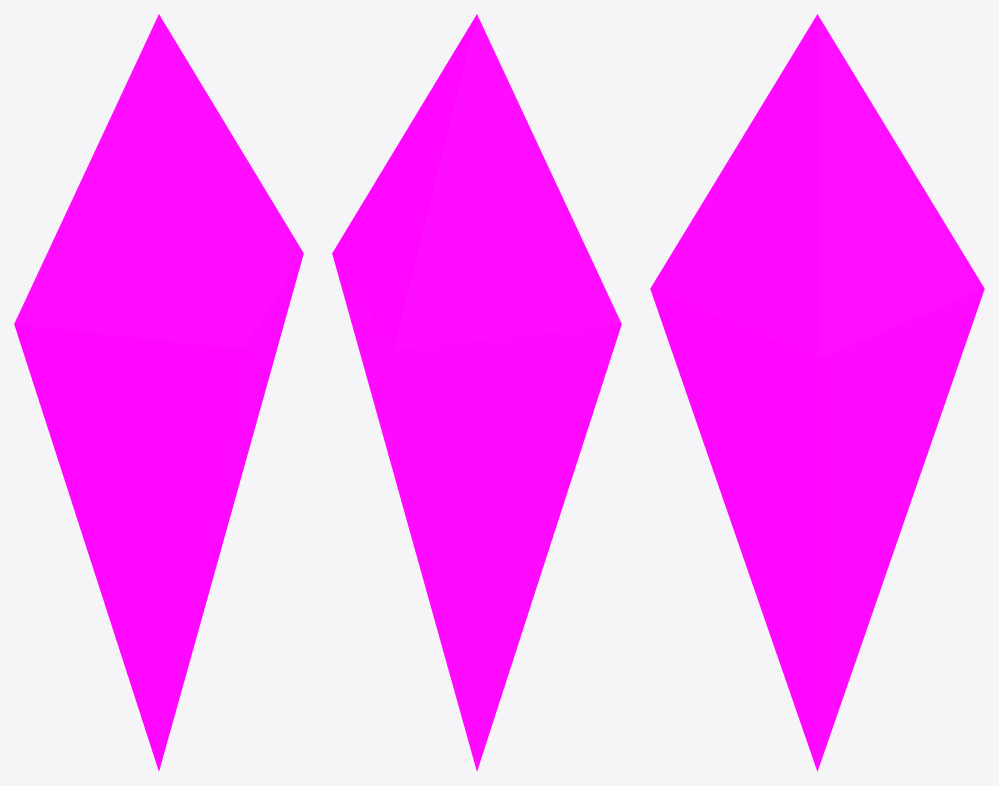
File: spawn_marker.glb
3 views of the same model, side by side, from view 1: azimuth 30°, elevation 25°; view 2: azimuth 150°, elevation 25°; view 3: azimuth 270°, elevation 25° (orthographic).
Parts seen in each view (by area): view 1: SpawnMarker; view 2: SpawnMarker; view 3: SpawnMarker.
Boxes of the visible parts, x1=… form: SpawnMarker: x1=14, y1=14, x2=303, y2=770; SpawnMarker: x1=332, y1=14, x2=621, y2=770; SpawnMarker: x1=650, y1=14, x2=984, y2=771.
Bounding box in the file's own units: 3.2 × 8 × 3.2.
